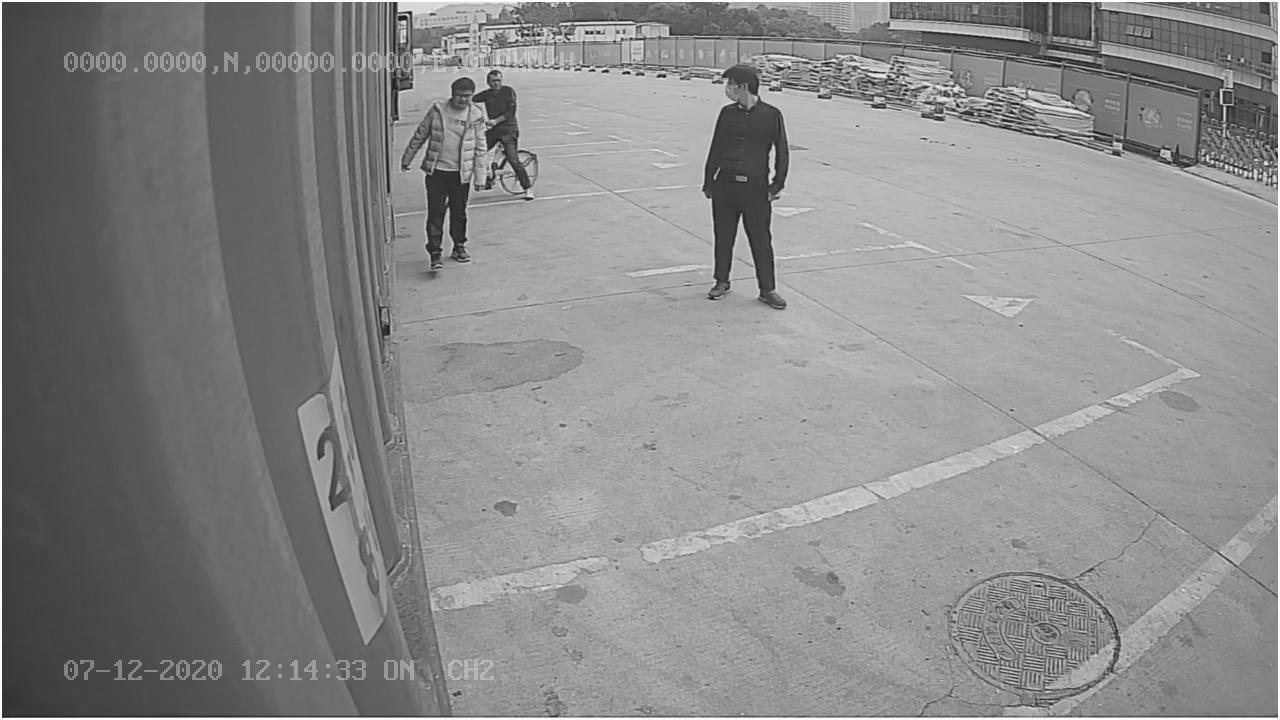person: (702, 63, 798, 312)
